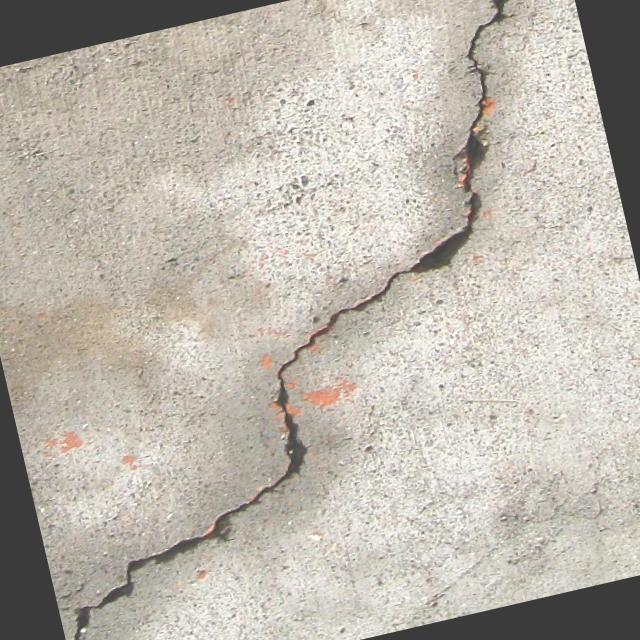crack: (346, 0, 589, 277), (231, 263, 452, 491), (41, 481, 300, 640)
